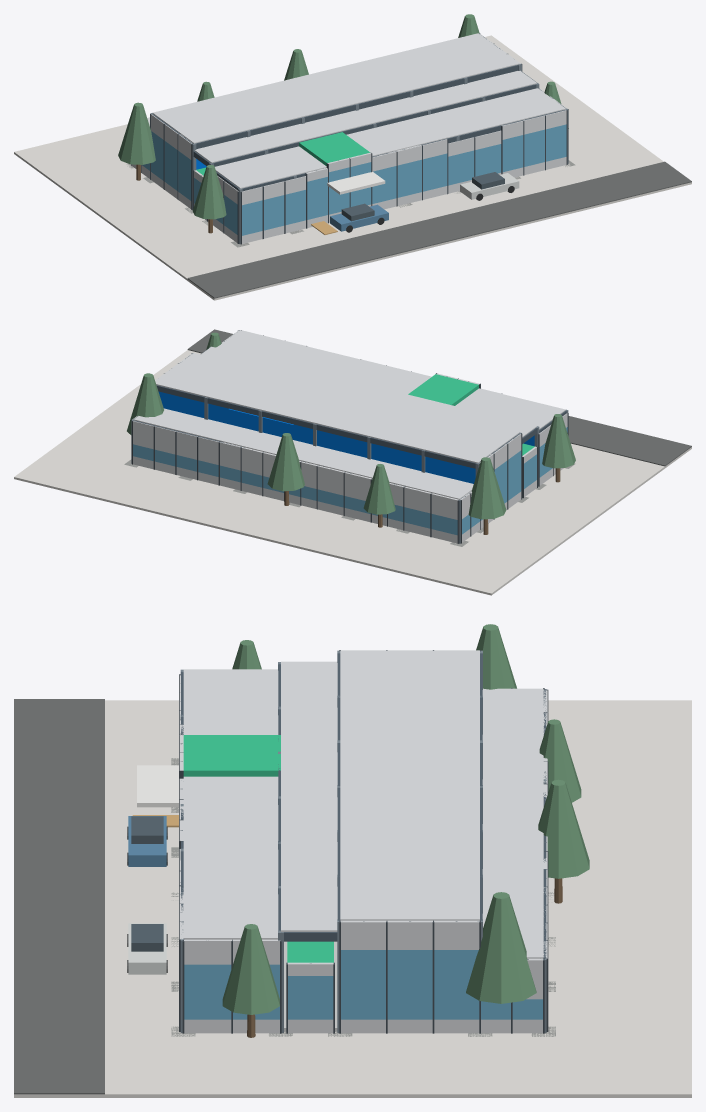
3 renders of one model, top to bottom at view 1: azimuth 30°, elevation 25°; view 2: azimuth 150°, elevation 25°; view 3: azimuth 270°, elevation 25°, orthographic. The views are drawn at different scales.
Parts seen in each view (by area): view 1: site-envelope, FCD-ROOF-MAIN-001, site-road-south, FCD-ROOF-SOUTH-001, FCD-ROOF-SPINE-001, tree-02-canopy, program-SP-L01-LOBBY-001, tree-01-canopy, FCD-VISION-SP-L01-CHILDREN-001-south-03, FCD-VISION-SP-L01-CHILDREN-001-south-02, FCD-VISION-SP-L01-VESTIBULE-001-south-01, FCD-VISION-SP-L01-GROUP-001-south-01 (+17 smaller); view 2: site-envelope, FCD-ROOF-MAIN-001, FCD-ROOF-SOUTH-001, FCD-ROOF-SERVICE-001, FCD-ROOF-SPINE-001, site-road-south, tree-02-canopy, program-SP-L01-STACKS-001, tree-04-canopy, program-SP-L01-ADULT-001, program-SP-L01-LOBBY-001, tree-01-canopy (+11 smaller); view 3: site-envelope, FCD-ROOF-MAIN-001, site-road-south, FCD-ROOF-SOUTH-001, FCD-ROOF-SPINE-001, FCD-ROOF-SERVICE-001, tree-05-canopy, program-SP-L01-LOBBY-001, tree-06-canopy, tree-04-canopy, FCD-VISION-SP-L01-QUIET-001-east-02, FCD-VISION-SP-L01-QUIET-001-east-01 (+16 smaller).
Part boxes in pixels (bbox=[...]): site-envelope: bbox=[14, 35, 691, 300]; FCD-ROOF-MAIN-001: bbox=[152, 33, 519, 143]; site-road-south: bbox=[187, 161, 691, 298]; FCD-ROOF-SOUTH-001: bbox=[215, 88, 565, 188]; FCD-ROOF-SPINE-001: bbox=[195, 70, 536, 163]; tree-02-canopy: bbox=[118, 102, 155, 164]; program-SP-L01-LOBBY-001: bbox=[299, 132, 369, 165]; tree-01-canopy: bbox=[192, 165, 226, 219]; FCD-VISION-SP-L01-CHILDREN-001-south-03: bbox=[423, 153, 447, 191]; FCD-VISION-SP-L01-CHILDREN-001-south-02: bbox=[397, 159, 421, 197]; FCD-VISION-SP-L01-VESTIBULE-001-south-01: bbox=[307, 177, 327, 219]; FCD-VISION-SP-L01-GROUP-001-south-01: bbox=[448, 150, 474, 185]; site-envelope: bbox=[14, 350, 691, 595]; FCD-ROOF-MAIN-001: bbox=[155, 353, 519, 463]; FCD-ROOF-SOUTH-001: bbox=[216, 330, 565, 429]; FCD-ROOF-SERVICE-001: bbox=[133, 408, 473, 499]; FCD-ROOF-SPINE-001: bbox=[201, 346, 536, 437]; site-road-south: bbox=[187, 329, 691, 466]; tree-02-canopy: bbox=[468, 457, 506, 519]; program-SP-L01-STACKS-001: bbox=[293, 424, 391, 463]; tree-04-canopy: bbox=[267, 433, 304, 491]; program-SP-L01-ADULT-001: bbox=[391, 448, 475, 483]; program-SP-L01-LOBBY-001: bbox=[408, 374, 478, 405]; tree-01-canopy: bbox=[542, 414, 575, 468]; site-envelope: bbox=[14, 700, 691, 1097]; FCD-ROOF-MAIN-001: bbox=[340, 650, 479, 920]; site-road-south: bbox=[14, 699, 104, 1094]; FCD-ROOF-SOUTH-001: bbox=[183, 669, 278, 939]; FCD-ROOF-SPINE-001: bbox=[281, 661, 337, 931]; FCD-ROOF-SERVICE-001: bbox=[482, 688, 543, 958]; tree-05-canopy: bbox=[466, 892, 536, 1003]; program-SP-L01-LOBBY-001: bbox=[183, 735, 280, 776]; tree-06-canopy: bbox=[222, 924, 279, 1014]; tree-04-canopy: bbox=[538, 779, 589, 878]; FCD-VISION-SP-L01-QUIET-001-east-02: bbox=[387, 950, 432, 1019]; FCD-VISION-SP-L01-QUIET-001-east-01: bbox=[341, 950, 385, 1019].
Bounding box in the file's own units: 44 × 7.5 × 32.
